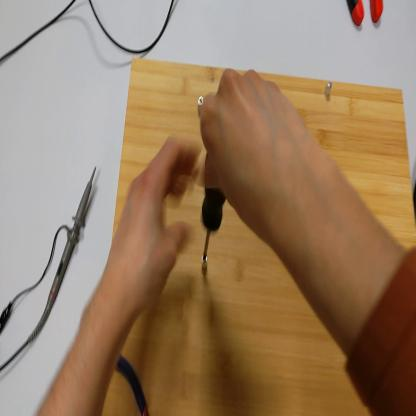hand: (200, 69, 311, 237), (108, 136, 195, 316)
oscilloscope probe tip: (29, 167, 98, 339)
pliers: (115, 357, 148, 415), (347, 2, 386, 28)
screwdriver-: (202, 154, 227, 258)
working area: (104, 54, 416, 416)
